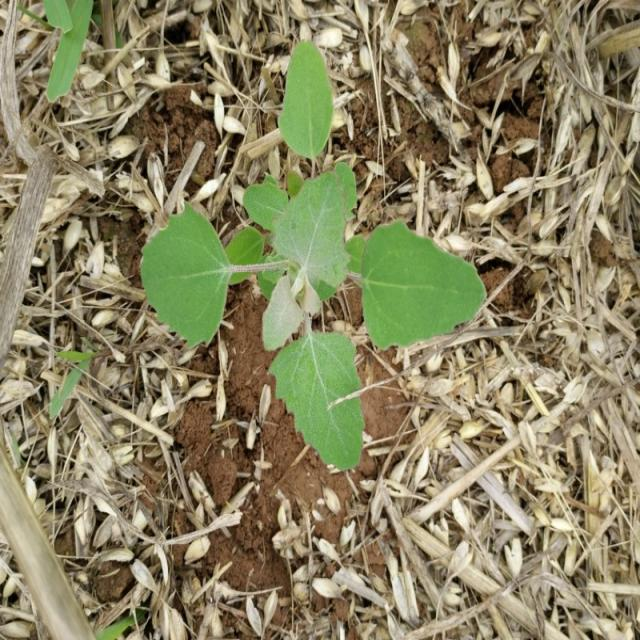ca: (145, 160, 484, 472)
